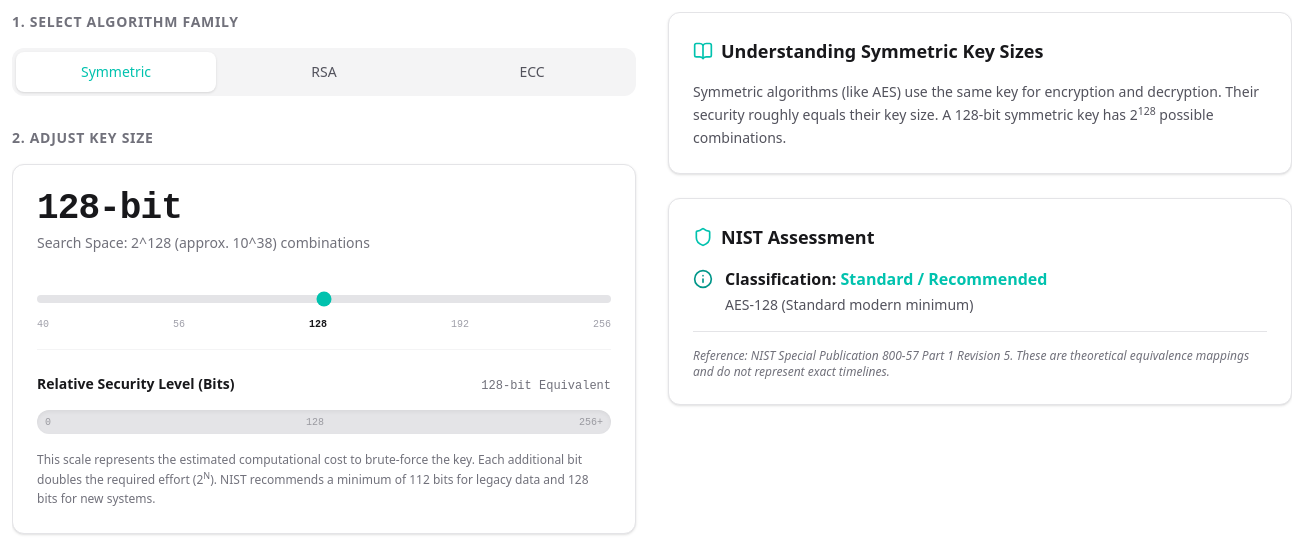
Test case: KeySizeEstimator Component › switches to ECC and updates key sizes
The image size is (1292, 552).
What coordinates should you click on to do the following:
click the button "ECC"
I would click on:
 (532, 72)
Its box is x1=432 y1=52 x2=632 y2=92.
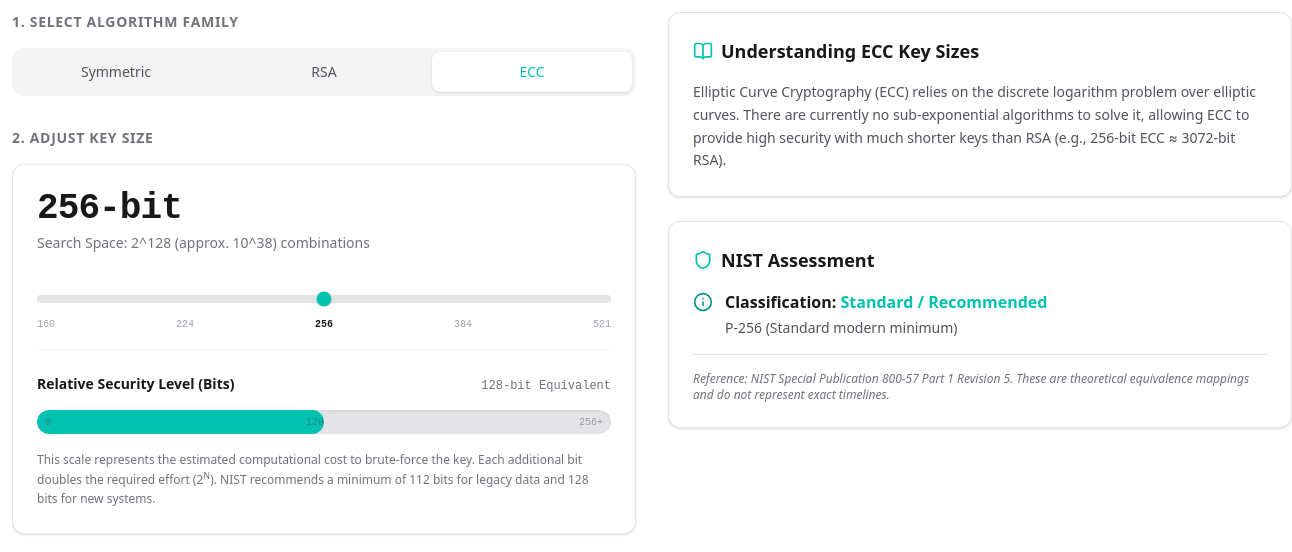
Expected: the text "128-bit Equivalent" is shown, x1=481 y1=378 x2=611 y2=394
Expected: the text "256-bit" is shown, x1=37 y1=188 x2=182 y2=229
Expected: the text "P-256 (Standard modern minimum)" is shown, x1=725 y1=318 x2=958 y2=337
